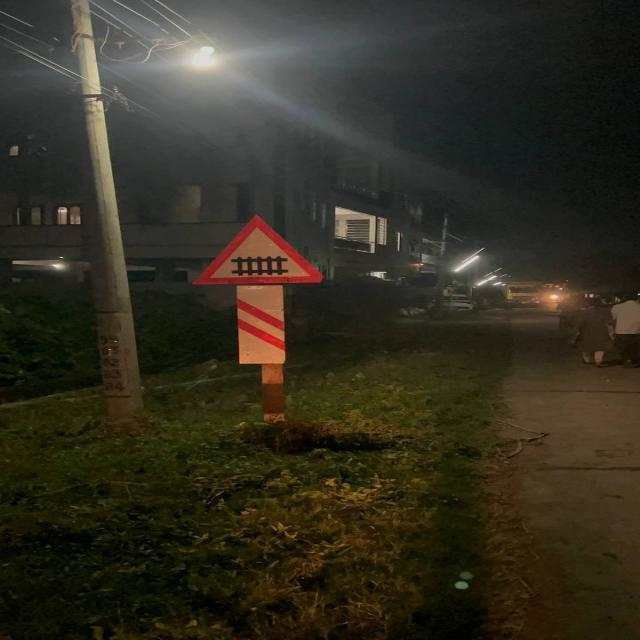200 metres: (185, 204, 340, 390)
